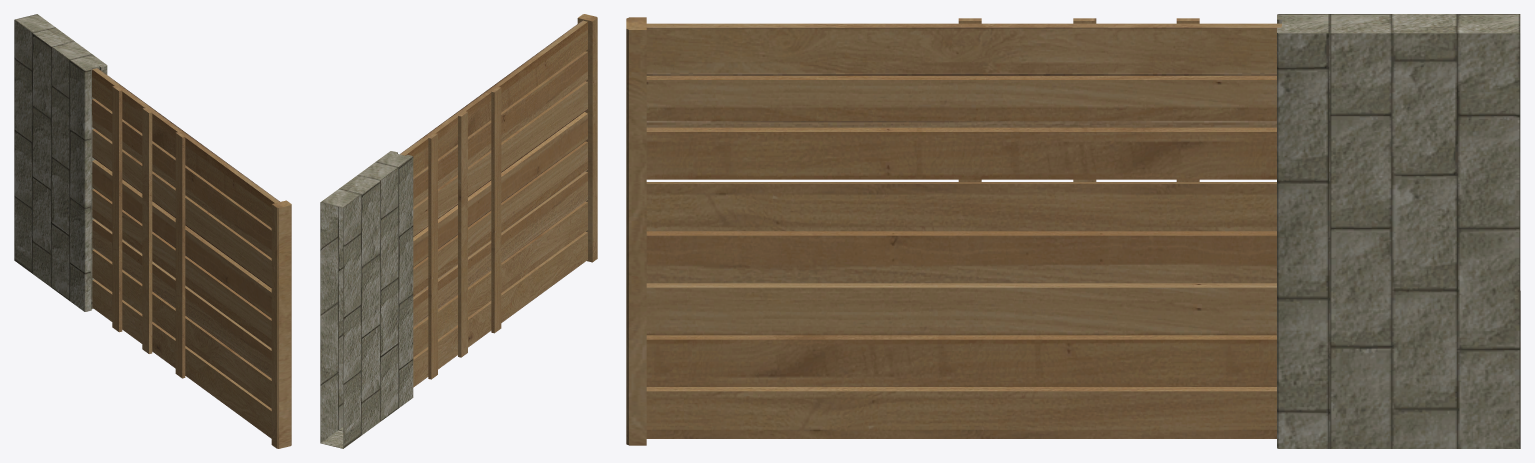
The model's file is nt_concrete_fence_straight_skinny_LOD0.obj.
3 renders of one model, left to right at view 1: azimuth 30°, elevation 25°; view 2: azimuth 150°, elevation 25°; view 3: azimuth 270°, elevation 25°, orthographic. The views are drawn at different scales.
Visible parts, largest first — view 1: nt_wood_fence, nt_2020_concrete_pattern_02; view 2: nt_wood_fence, nt_2020_concrete_pattern_02; view 3: nt_wood_fence, nt_2020_concrete_pattern_02.
Boxes of the visible parts, box(x1,y1,x2,y2) form: nt_wood_fence: box(92, 68, 291, 448); nt_2020_concrete_pattern_02: box(14, 14, 107, 311); nt_wood_fence: box(400, 14, 597, 387); nt_2020_concrete_pattern_02: box(320, 151, 413, 448); nt_wood_fence: box(626, 17, 1281, 445); nt_2020_concrete_pattern_02: box(1277, 14, 1520, 448).
Size of the model in its own units: 10.16 by 102 by 198.
2 materials, 2 textured.
